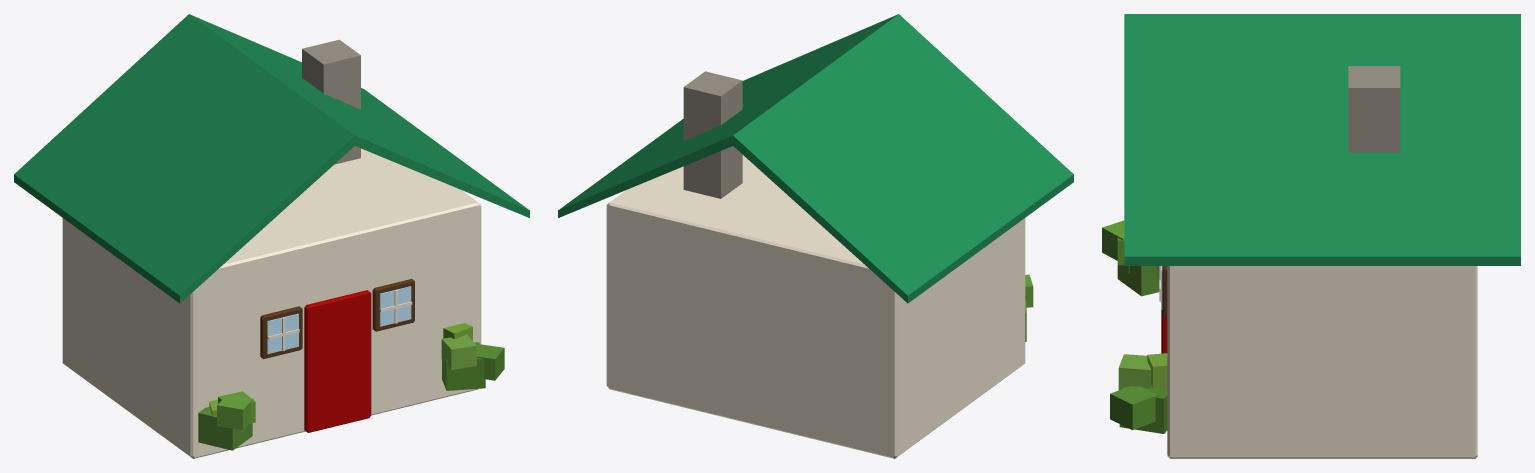
File: home_cottage.glb
3 renders of one model, left to right at view 1: azimuth 30°, elevation 25°; view 2: azimuth 150°, elevation 25°; view 3: azimuth 270°, elevation 25°, orthographic. The views are drawn at different scales.
Visible parts, largest first — view 1: home_cottage_stone, home_cottage_plain, home_cottage_wood, home_cottage_foliage, home_cottage_glass; view 2: home_cottage_stone, home_cottage_plain; view 3: home_cottage_plain, home_cottage_stone, home_cottage_foliage, home_cottage_wood.
Boxes of the visible parts, bbox=[...] form: home_cottage_stone: bbox=[62, 39, 481, 458]; home_cottage_plain: bbox=[14, 14, 529, 303]; home_cottage_wood: bbox=[260, 279, 414, 432]; home_cottage_foliage: bbox=[198, 323, 504, 450]; home_cottage_glass: bbox=[267, 286, 411, 353]; home_cottage_stone: bbox=[606, 71, 1025, 458]; home_cottage_plain: bbox=[558, 14, 1073, 303]; home_cottage_plain: bbox=[1124, 14, 1520, 265]; home_cottage_stone: bbox=[1167, 66, 1477, 458]; home_cottage_foliage: bbox=[1102, 220, 1167, 433]; home_cottage_wood: bbox=[1159, 266, 1167, 353].
Size of the model in its own units: 5.6 by 4.63 by 4.86.
